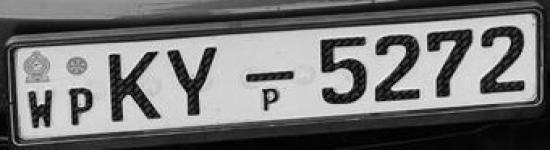-: (242, 66, 298, 86)
2: (477, 20, 532, 98), (373, 32, 426, 104)
5: (310, 31, 374, 109)
7: (425, 25, 476, 102)
K: (104, 48, 162, 127)
P: (62, 84, 98, 131)
W: (22, 87, 60, 132)
Y: (160, 42, 221, 118)
